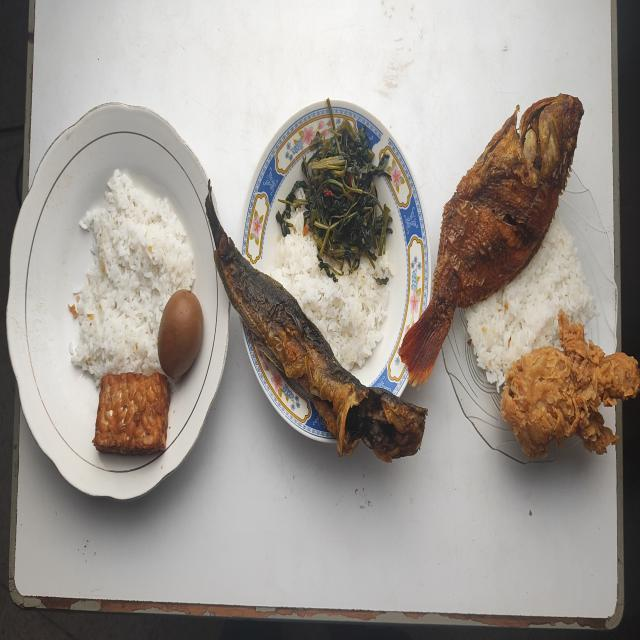ikan_mujair: (400, 94, 584, 384)
nasi_putih: (71, 170, 195, 380), (466, 217, 596, 387), (270, 230, 390, 370)
tempe_goreng: (92, 372, 170, 454)
tumis_kangkung: (276, 120, 392, 282)
